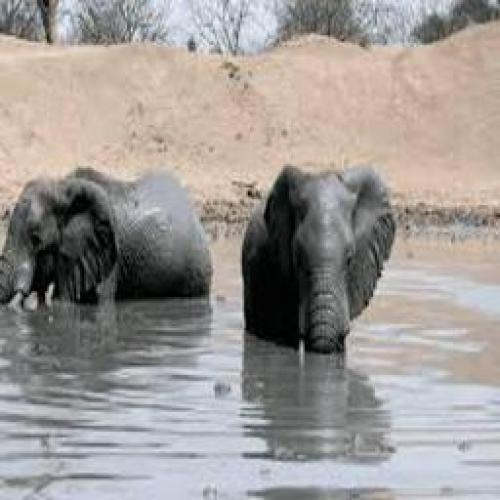african_elephant-endangered: (244, 162, 394, 367), (0, 167, 212, 312)
